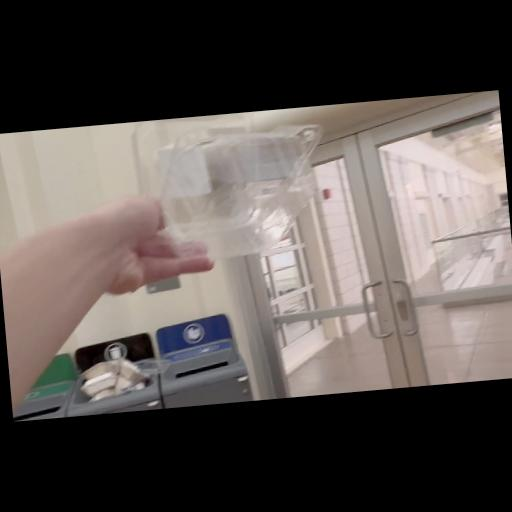small_plastic_container: (152, 117, 330, 265)
